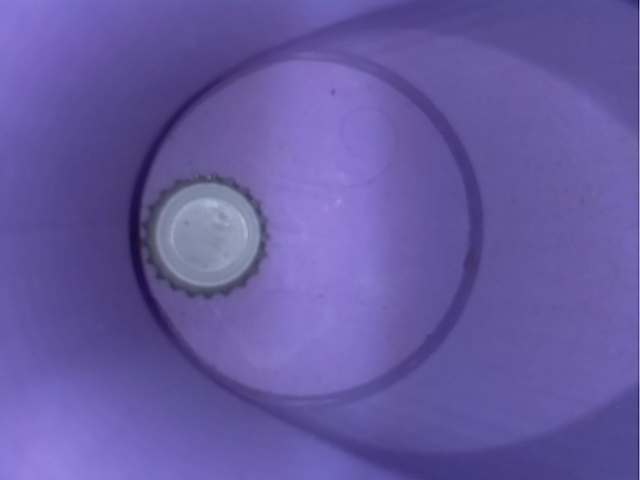capsule: (137, 164, 275, 309)
